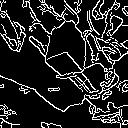cube: (38, 21, 99, 83)
